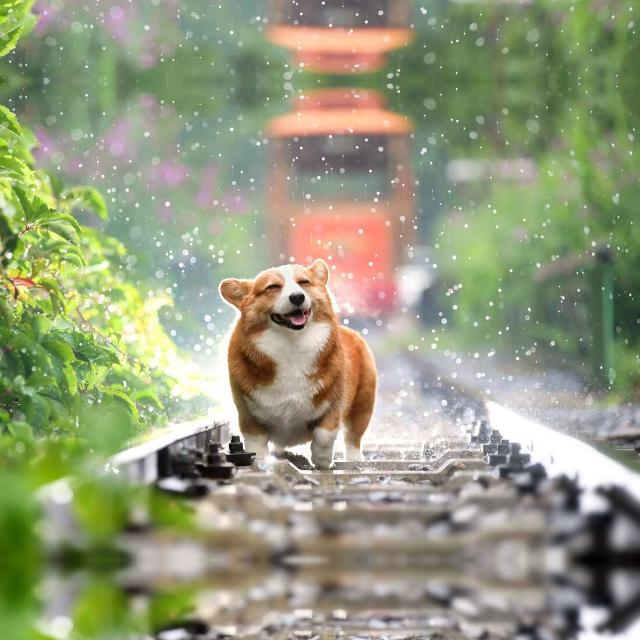dog: (207, 253, 383, 469)
